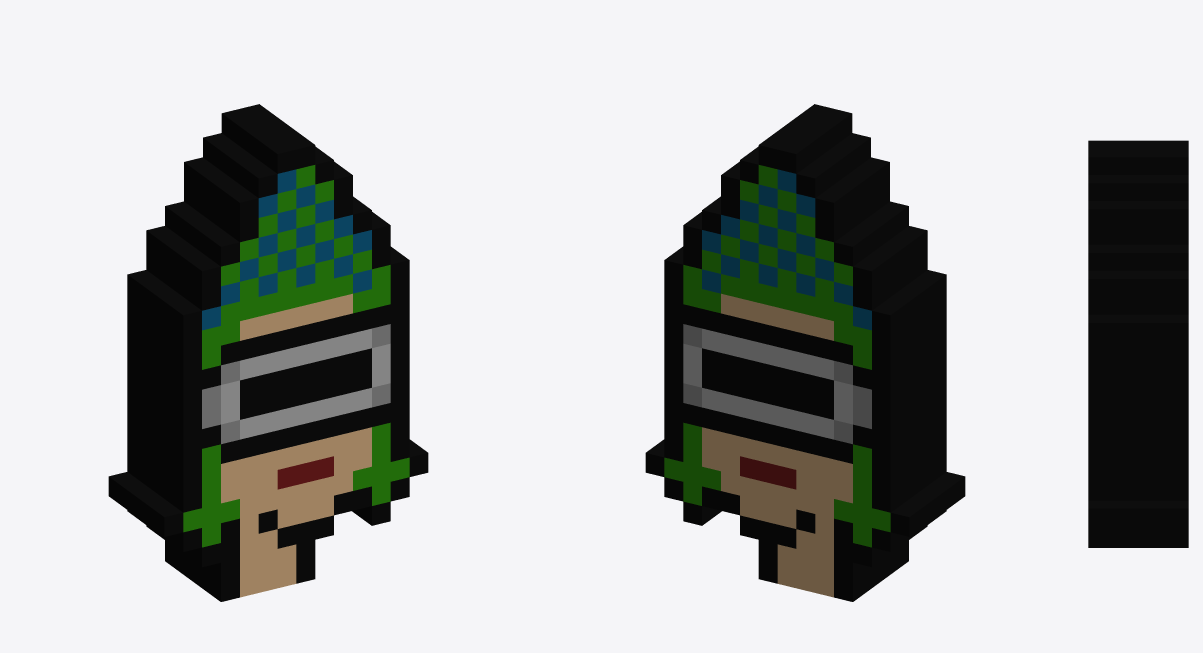
Rendered from ARPunk7145.glb.
3 renders of one model, left to right at view 1: azimuth 30°, elevation 25°; view 2: azimuth 150°, elevation 25°; view 3: azimuth 270°, elevation 25°, orthographic. The views are drawn at different scales.
Parts seen in each view (by area): view 1: Mesh_516.009, Mesh_98.009, Mesh_412.009, Mesh_387.009, Mesh_486.009, Mesh_464.009, Mesh_343.009, Mesh_127.009, Mesh_363.009, Mesh_151.009, Mesh_199.009, Mesh_440.009 (+8 smaller); view 2: Mesh_516.009, Mesh_98.009, Mesh_412.009, Mesh_387.009, Mesh_486.009, Mesh_464.009, Mesh_343.009, Mesh_127.009, Mesh_363.009, Mesh_151.009, Mesh_199.009, Mesh_440.009 (+8 smaller); view 3: Mesh_116.009, Mesh_350.009, Mesh_399.009, Mesh_429.009, Mesh_474.009, Mesh_493.009, Mesh_513.009, Mesh_134.009, Mesh_206.009, Mesh_230.009, Mesh_302.009, Mesh_326.009 (+10 smaller).
Part boxes in pixels (x1,y1,x2,y2): Mesh_516.009: (221,108,296,173); Mesh_98.009: (108,472,183,536); Mesh_412.009: (165,201,239,266); Mesh_387.009: (146,226,220,290); Mesh_486.009: (203,133,277,197); Mesh_464.009: (184,157,258,222); Mesh_343.009: (127,270,201,334); Mesh_127.009: (127,452,201,512); Mesh_363.009: (146,250,220,310); Mesh_151.009: (127,432,201,492); Mesh_199.009: (127,393,201,453); Mesh_440.009: (184,182,258,242); Mesh_516.009: (777,108,852,173); Mesh_98.009: (890,472,965,536); Mesh_412.009: (834,201,908,266); Mesh_387.009: (853,226,927,290); Mesh_486.009: (796,133,870,197); Mesh_464.009: (815,157,889,222); Mesh_343.009: (872,270,946,334); Mesh_127.009: (872,452,946,512); Mesh_363.009: (853,250,927,310); Mesh_151.009: (872,432,946,492); Mesh_199.009: (872,393,946,453); Mesh_440.009: (815,182,889,242); Mesh_116.009: (1088,500,1188,526); Mesh_350.009: (1088,314,1188,340); Mesh_399.009: (1088,270,1188,296); Mesh_429.009: (1088,244,1188,270); Mesh_474.009: (1088,201,1188,226); Mesh_493.009: (1088,175,1188,200); Mesh_513.009: (1088,149,1188,174); Mesh_134.009: (1088,482,1188,500); Mesh_206.009: (1088,429,1188,447); Mesh_230.009: (1088,411,1188,429); Mesh_302.009: (1088,358,1188,376); Mesh_326.009: (1088,340,1188,358).
Size of the model in its own units: 24 by 24 by 5.13.
1 material, 1 textured.
